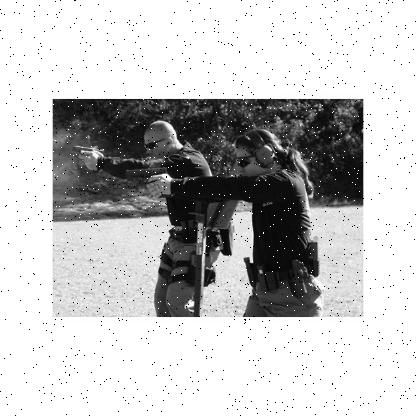gun: (121, 164, 171, 200), (70, 144, 104, 170)
